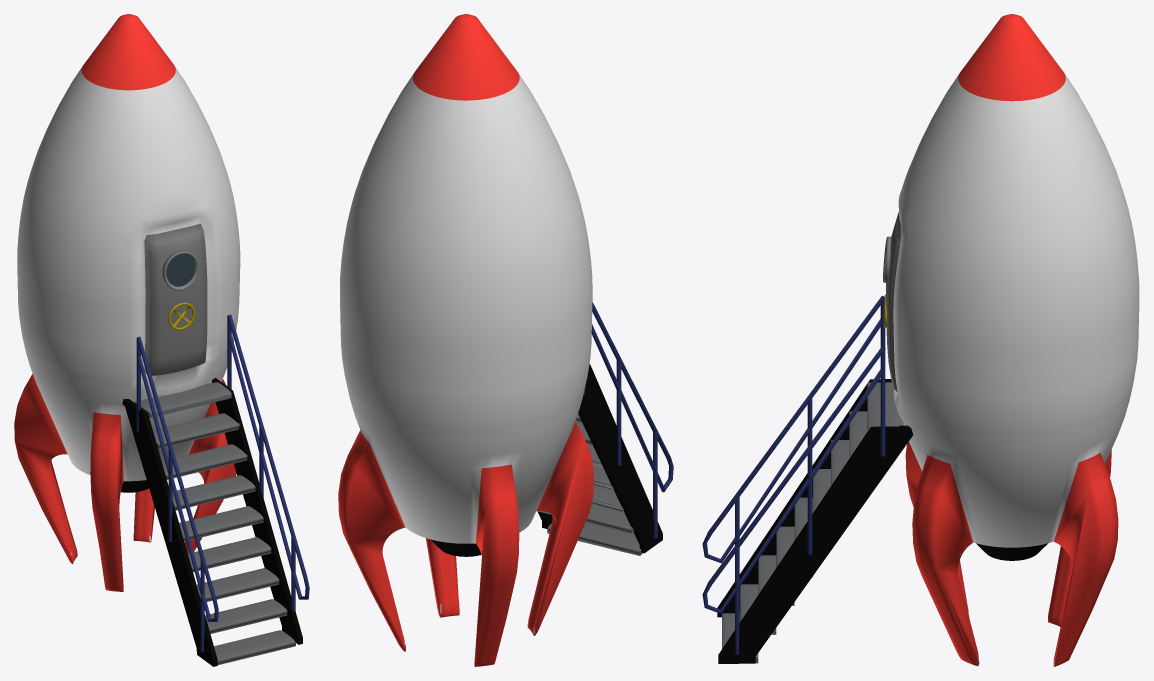
File: rocket_and_stairs.fbx
The picture shows the model from 3 angles, left to right: view 1: azimuth 30°, elevation 25°; view 2: azimuth 150°, elevation 25°; view 3: azimuth 270°, elevation 25°; orthographic projection. The views are drawn at different scales.
Visible parts, largest first — view 1: Cylinder.029, Cube, Cube.052, Cylinder.032, Cylinder.030, Cylinder.033; view 2: Cylinder.029, Cube.052, Cube, Cylinder.032; view 3: Cylinder.029, Cube.052, Cube, Cylinder.030, Cylinder.032.
Boxes of the visible parts, x1=… form: Cylinder.029: x1=14, y1=14, x2=240, y2=591; Cube: x1=134, y1=382, x2=295, y2=665; Cube.052: x1=122, y1=377, x2=302, y2=666; Cylinder.032: x1=136, y1=336, x2=218, y2=652; Cylinder.030: x1=227, y1=314, x2=309, y2=611; Cylinder.033: x1=161, y1=251, x2=198, y2=290; Cylinder.029: x1=338, y1=14, x2=594, y2=666; Cube.052: x1=537, y1=364, x2=662, y2=553; Cube: x1=538, y1=414, x2=643, y2=555; Cylinder.032: x1=583, y1=302, x2=673, y2=538; Cylinder.029: x1=886, y1=14, x2=1139, y2=666; Cube.052: x1=717, y1=379, x2=913, y2=663; Cube: x1=722, y1=382, x2=903, y2=663; Cylinder.030: x1=702, y1=346, x2=885, y2=654; Cylinder.032: x1=702, y1=296, x2=885, y2=563.
Size of the model in its own units: 647 by 1762 by 1109.
Materials: 6 (2 with a texture image).
